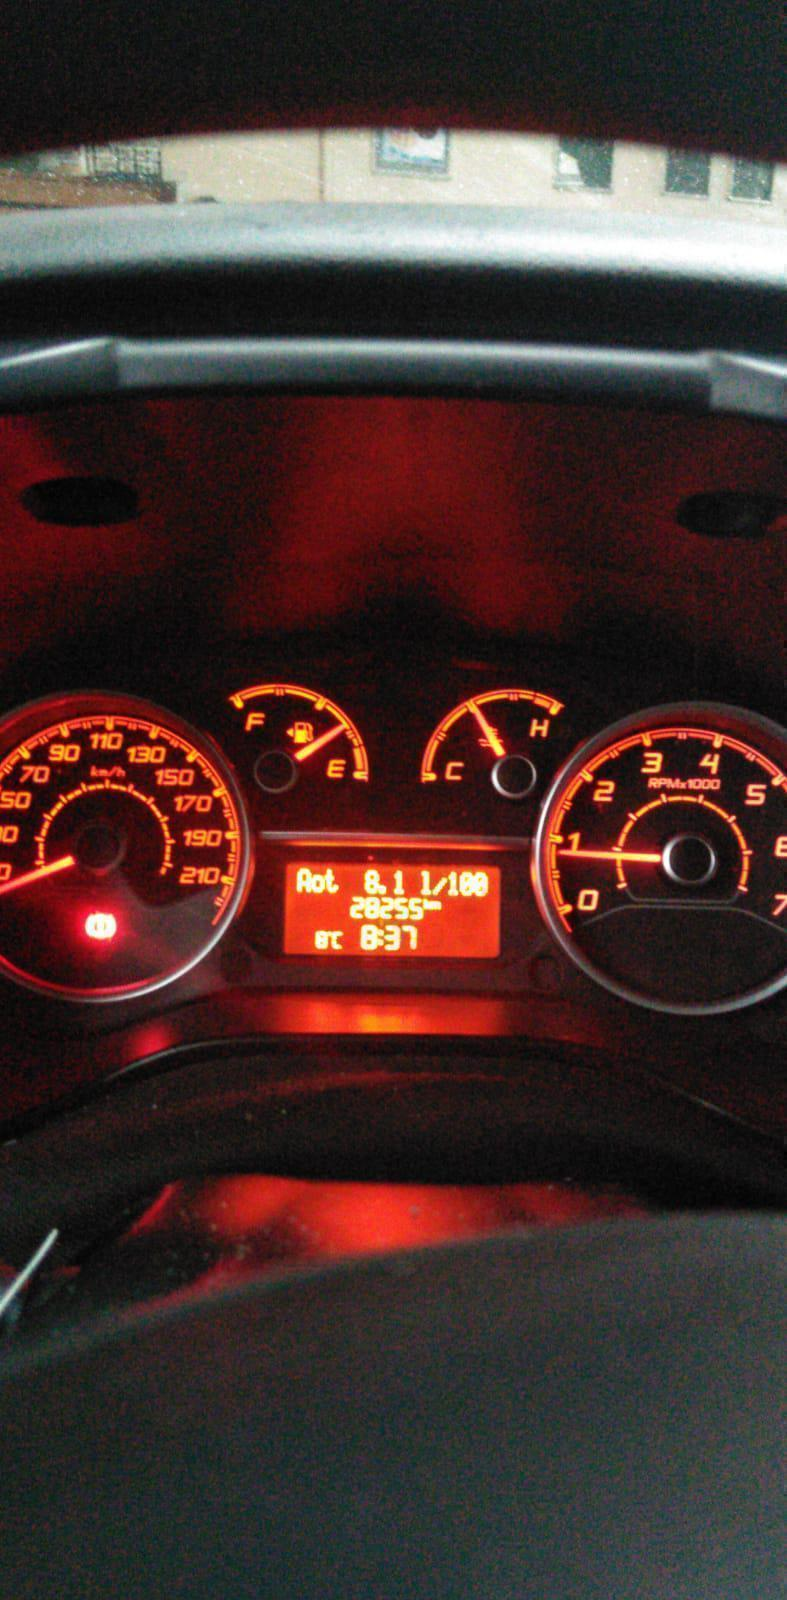,: (377, 884, 387, 894)
0: (474, 871, 489, 896), (459, 871, 474, 896)
1: (392, 869, 405, 895), (447, 871, 458, 896)
2: (349, 895, 364, 919), (380, 896, 393, 920)
3: (383, 924, 401, 951)
5: (394, 896, 408, 920), (408, 897, 423, 920)
7: (400, 924, 417, 950)
8: (359, 924, 377, 950), (363, 869, 380, 894), (363, 896, 380, 919), (313, 929, 328, 950)
X: (295, 866, 312, 894), (324, 868, 339, 894), (419, 869, 431, 895), (431, 876, 446, 895), (330, 929, 344, 949), (311, 873, 325, 893), (431, 899, 443, 911), (377, 929, 384, 946), (424, 897, 431, 911)
odometer: (281, 859, 503, 961)
